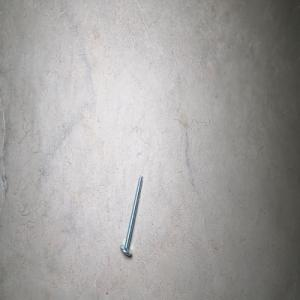Bolt: (119, 173, 143, 256)
